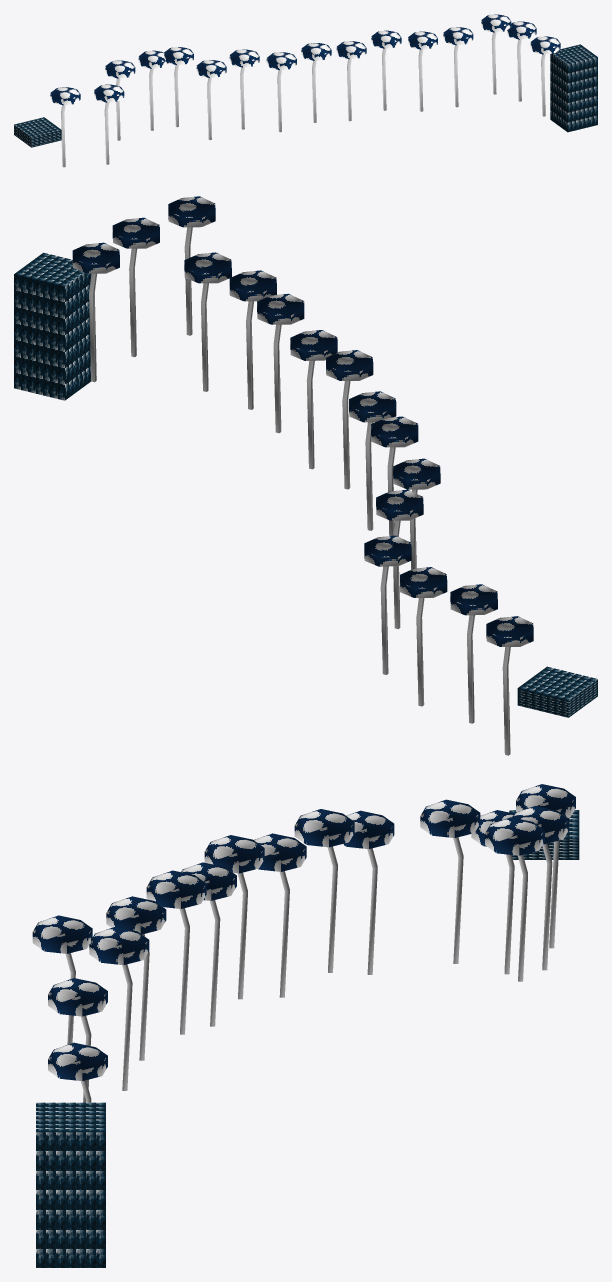
The model's file is BiDMK.obj.
The picture shows the model from 3 angles, top to bottom: view 1: azimuth 30°, elevation 25°; view 2: azimuth 150°, elevation 25°; view 3: azimuth 270°, elevation 25°; orthographic projection. The views are drawn at different scales.
Visible parts, largest first — view 1: Cube.001, Cube, THE_MUSHROOM.001, THE_MUSHROOM.013, THE_MUSHROOM.006, THE_MUSHROOM.015, THE_MUSHROOM, THE_MUSHROOM.009, THE_MUSHROOM.010, THE_MUSHROOM.011, THE_MUSHROOM.012, THE_MUSHROOM.007 (+6 smaller); view 2: Cube.001, Cube, THE_MUSHROOM.003, THE_MUSHROOM.010, THE_MUSHROOM.012, THE_MUSHROOM.008, THE_MUSHROOM.001, THE_MUSHROOM, THE_MUSHROOM.014, THE_MUSHROOM.015, THE_MUSHROOM.002, THE_MUSHROOM.009 (+6 smaller); view 3: Cube.001, THE_MUSHROOM.006, THE_MUSHROOM.004, THE_MUSHROOM.012, THE_MUSHROOM.003, THE_MUSHROOM.010, THE_MUSHROOM.008, THE_MUSHROOM.011, THE_MUSHROOM.007, THE_MUSHROOM.013, THE_MUSHROOM.005, THE_MUSHROOM.014 (+6 smaller).
Part boxes in pixels (x1=…): Cube.001: x1=550, y1=44, x2=597, y2=132; Cube: x1=14, y1=117, x2=61, y2=147; THE_MUSHROOM.001: x1=94, y1=84, x2=124, y2=164; THE_MUSHROOM.013: x1=481, y1=14, x2=511, y2=94; THE_MUSHROOM.006: x1=229, y1=49, x2=259, y2=129; THE_MUSHROOM.015: x1=530, y1=36, x2=560, y2=116; THE_MUSHROOM: x1=50, y1=87, x2=80, y2=167; THE_MUSHROOM.009: x1=336, y1=41, x2=366, y2=121; THE_MUSHROOM.010: x1=371, y1=30, x2=401, y2=110; THE_MUSHROOM.011: x1=408, y1=31, x2=437, y2=111; THE_MUSHROOM.012: x1=443, y1=27, x2=473, y2=107; THE_MUSHROOM.007: x1=266, y1=52, x2=296, y2=132; Cube.001: x1=14, y1=252, x2=91, y2=400; Cube: x1=517, y1=666, x2=597, y2=717; THE_MUSHROOM.003: x1=364, y1=535, x2=411, y2=674; THE_MUSHROOM.010: x1=257, y1=293, x2=304, y2=433; THE_MUSHROOM.012: x1=184, y1=252, x2=231, y2=391; THE_MUSHROOM.008: x1=326, y1=350, x2=373, y2=489; THE_MUSHROOM.001: x1=450, y1=584, x2=497, y2=723; THE_MUSHROOM: x1=486, y1=616, x2=533, y2=755; THE_MUSHROOM.014: x1=112, y1=217, x2=159, y2=357; THE_MUSHROOM.015: x1=72, y1=242, x2=119, y2=382; THE_MUSHROOM.002: x1=400, y1=567, x2=447, y2=706; THE_MUSHROOM.009: x1=290, y1=330, x2=337, y2=469; Cube.001: x1=36, y1=1102, x2=105, y2=1267; THE_MUSHROOM.006: x1=294, y1=809, x2=354, y2=972; THE_MUSHROOM.004: x1=420, y1=799, x2=480, y2=963; THE_MUSHROOM.012: x1=89, y1=926, x2=149, y2=1090; THE_MUSHROOM.003: x1=485, y1=817, x2=544, y2=981; THE_MUSHROOM.010: x1=146, y1=870, x2=206, y2=1034; THE_MUSHROOM.008: x1=204, y1=835, x2=264, y2=999; THE_MUSHROOM.011: x1=106, y1=896, x2=166, y2=1060; THE_MUSHROOM.007: x1=254, y1=833, x2=306, y2=997; THE_MUSHROOM.013: x1=32, y1=915, x2=92, y2=1044; THE_MUSHROOM.005: x1=343, y1=810, x2=394, y2=974; THE_MUSHROOM.014: x1=48, y1=978, x2=107, y2=1102.
Size of the model in its own units: 29.6 by 10.26 by 15.64.
